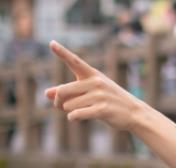up: (42, 35, 133, 132)
